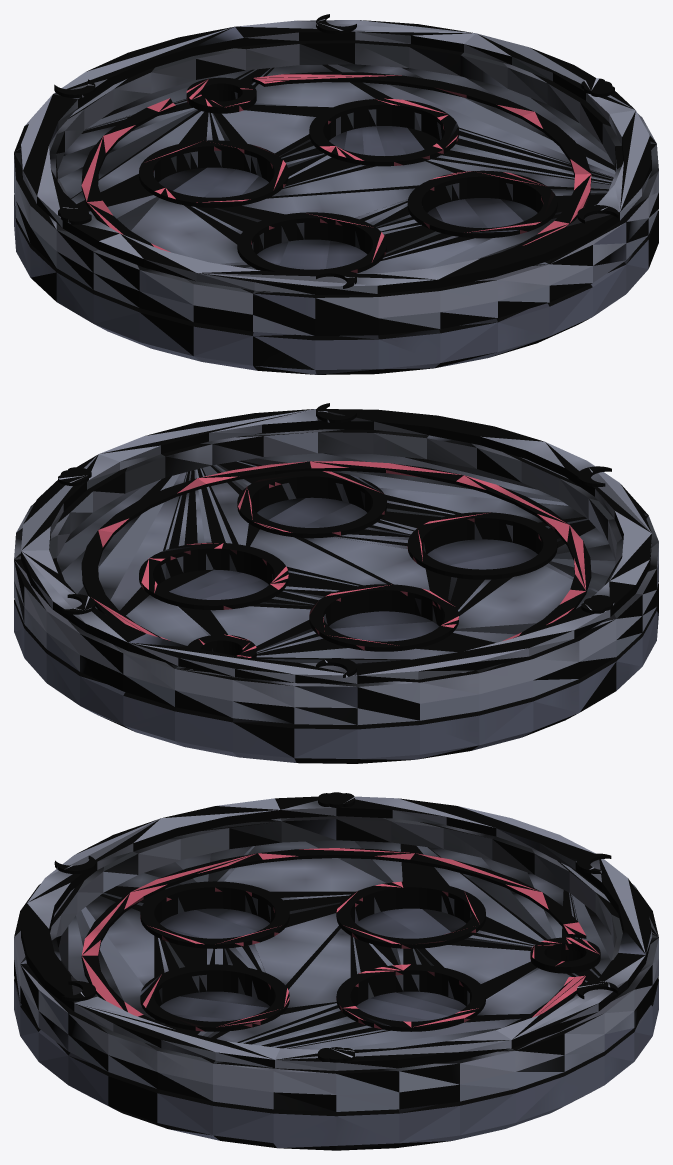
The model's file is HomePlatform_Carmesi.glb.
3 renders of one model, top to bottom at view 1: azimuth 30°, elevation 25°; view 2: azimuth 150°, elevation 25°; view 3: azimuth 270°, elevation 25°, orthographic.
Parts seen in each view (by area): view 1: Surface, Body, Rim, RimTop, TeamInlayRing, TokenSocketCollar_3, TokenSocketCollar_4, TokenSocketCollar_2, TokenSocketCollar_1, BannerSocketCollar; view 2: Surface, Body, Rim, RimTop, TeamInlayRing, TokenSocketCollar_3, TokenSocketCollar_1, TokenSocketCollar_2, TokenSocketCollar_4, BannerSocketCollar; view 3: Surface, Body, Rim, RimTop, TeamInlayRing, TokenSocketCollar_2, TokenSocketCollar_3, TokenSocketCollar_1, TokenSocketCollar_4, BannerSocketCollar.
Part boxes in pixels (bbox=[...]): Surface: bbox=[14, 64, 658, 336]; Body: bbox=[14, 126, 658, 374]; Rim: bbox=[14, 40, 658, 319]; RimTop: bbox=[21, 20, 651, 294]; TeamInlayRing: bbox=[81, 72, 591, 252]; TokenSocketCollar_3: bbox=[139, 140, 288, 207]; TokenSocketCollar_4: bbox=[309, 98, 458, 166]; TokenSocketCollar_2: bbox=[407, 170, 557, 238]; TokenSocketCollar_1: bbox=[237, 212, 386, 274]; BannerSocketCollar: bbox=[186, 77, 256, 113]; Surface: bbox=[14, 453, 658, 725]; Body: bbox=[14, 497, 658, 763]; Rim: bbox=[14, 429, 658, 708]; RimTop: bbox=[21, 409, 651, 683]; TeamInlayRing: bbox=[81, 461, 591, 641]; TokenSocketCollar_3: bbox=[309, 584, 458, 651]; TokenSocketCollar_1: bbox=[407, 512, 557, 579]; TokenSocketCollar_2: bbox=[237, 470, 386, 538]; TokenSocketCollar_4: bbox=[139, 542, 288, 610]; BannerSocketCollar: bbox=[188, 634, 256, 658]; Surface: bbox=[14, 840, 658, 1111]; Body: bbox=[14, 908, 658, 1150]; Rim: bbox=[14, 816, 658, 1094]; RimTop: bbox=[21, 796, 651, 1070]; TeamInlayRing: bbox=[81, 848, 586, 1028]; TokenSocketCollar_2: bbox=[140, 964, 289, 1031]; TokenSocketCollar_3: bbox=[336, 881, 485, 948]; TokenSocketCollar_1: bbox=[140, 881, 289, 948]; TokenSocketCollar_4: bbox=[336, 964, 485, 1031]; BannerSocketCollar: bbox=[530, 937, 600, 973].
Bounding box in the file's own units: 2.76 × 0.455 × 2.76.
Materials: 5 (5 with a texture image).
